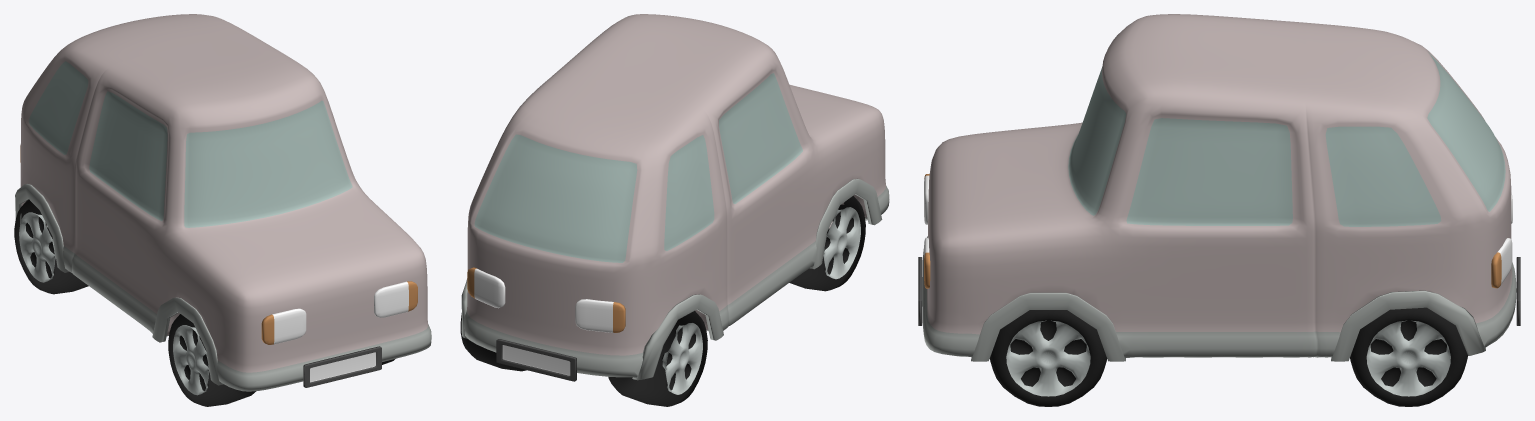
Rendered from car (2).fbx.
The picture shows the model from 3 angles, left to right: view 1: azimuth 30°, elevation 25°; view 2: azimuth 150°, elevation 25°; view 3: azimuth 270°, elevation 25°; orthographic projection. The views are drawn at different scales.
Parts seen in each view (by area): view 1: Cube, Cylinder.008, Cylinder.002, Cube.005, Cube.003; view 2: Cube, Cylinder.008, Cylinder.002, Cube.005, Cube.003; view 3: Cube, Cylinder.008, Cylinder.002, Cube.005, Cube.003.
Part boxes in pixels (<box>): Cube: <box>20,14,431,391</box>; Cylinder.008: <box>14,199,394,406</box>; Cylinder.002: <box>15,184,223,385</box>; Cube.005: <box>20,145,417,344</box>; Cube.003: <box>303,346,381,387</box>; Cube: <box>464,14,889,377</box>; Cylinder.008: <box>460,195,865,406</box>; Cylinder.002: <box>461,178,882,380</box>; Cube.005: <box>467,267,625,332</box>; Cube.003: <box>496,339,576,381</box>; Cube: <box>922,14,1516,357</box>; Cylinder.008: <box>989,307,1467,406</box>; Cylinder.002: <box>971,290,1485,361</box>; Cube.005: <box>924,174,1512,288</box>; Cube.003: <box>918,257,1520,325</box>.
Bounding box in the file's own units: 379 × 462 × 816.
